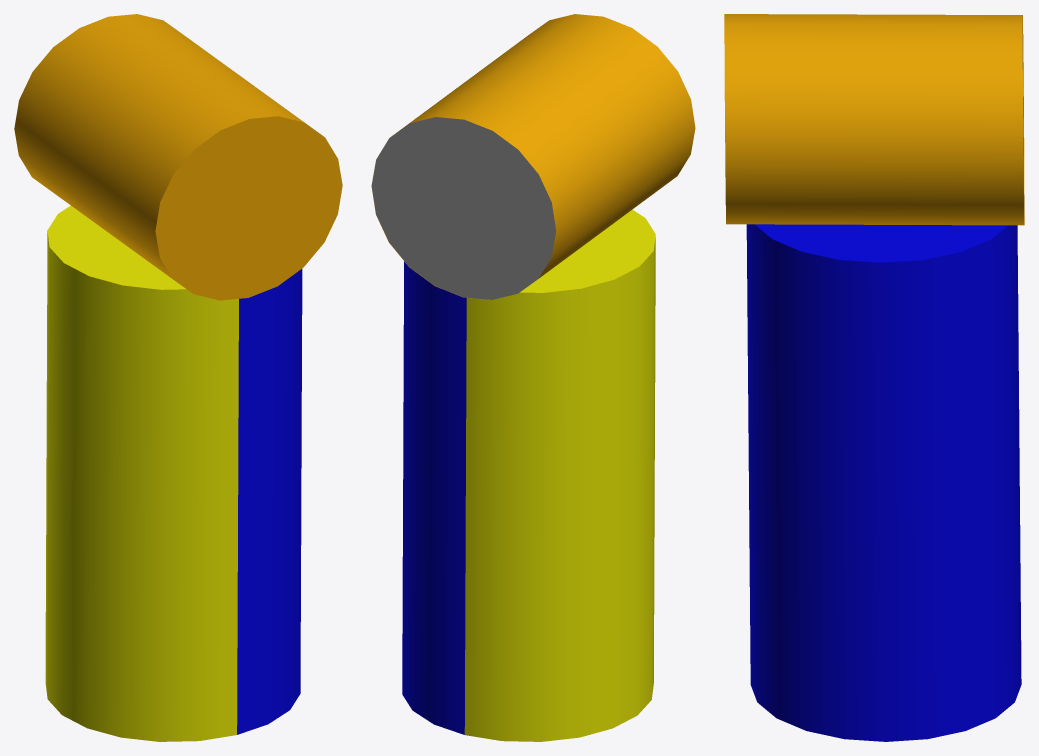
Rendered from ClosingDoor.fbx.
3 renders of one model, left to right at view 1: azimuth 30°, elevation 25°; view 2: azimuth 150°, elevation 25°; view 3: azimuth 270°, elevation 25°, orthographic. The views are drawn at different scales.
Parts seen in each view (by area): view 1: pCylinder4, polySurface3; view 2: pCylinder4, polySurface3, picutre2; view 3: pCylinder4, polySurface3.
Part boxes in pixels (<box>): pCylinder4: <box>45,205,302,741</box>; polySurface3: <box>14,14,342,300</box>; pCylinder4: <box>402,209,655,741</box>; polySurface3: <box>371,14,695,299</box>; picutre2: <box>371,117,556,299</box>; pCylinder4: <box>746,224,1021,741</box>; polySurface3: <box>724,14,1024,225</box>.
Bounding box in the file's own units: 4.23 × 11.37 × 4.68.
